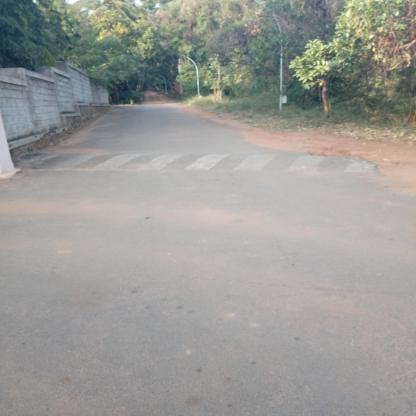speed-bumps: (22, 140, 377, 185)
